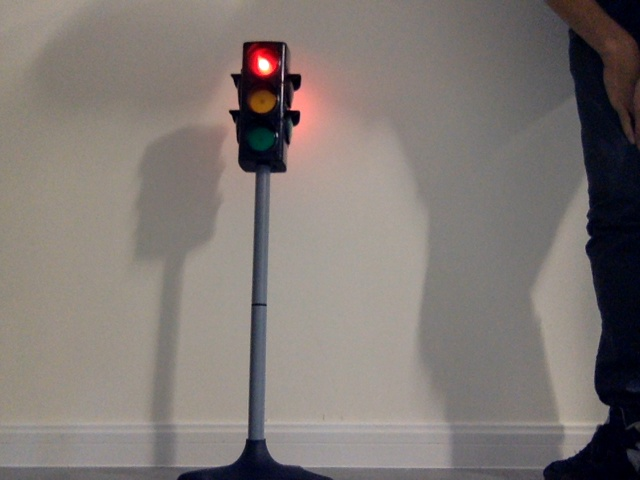red: (241, 46, 277, 152)
